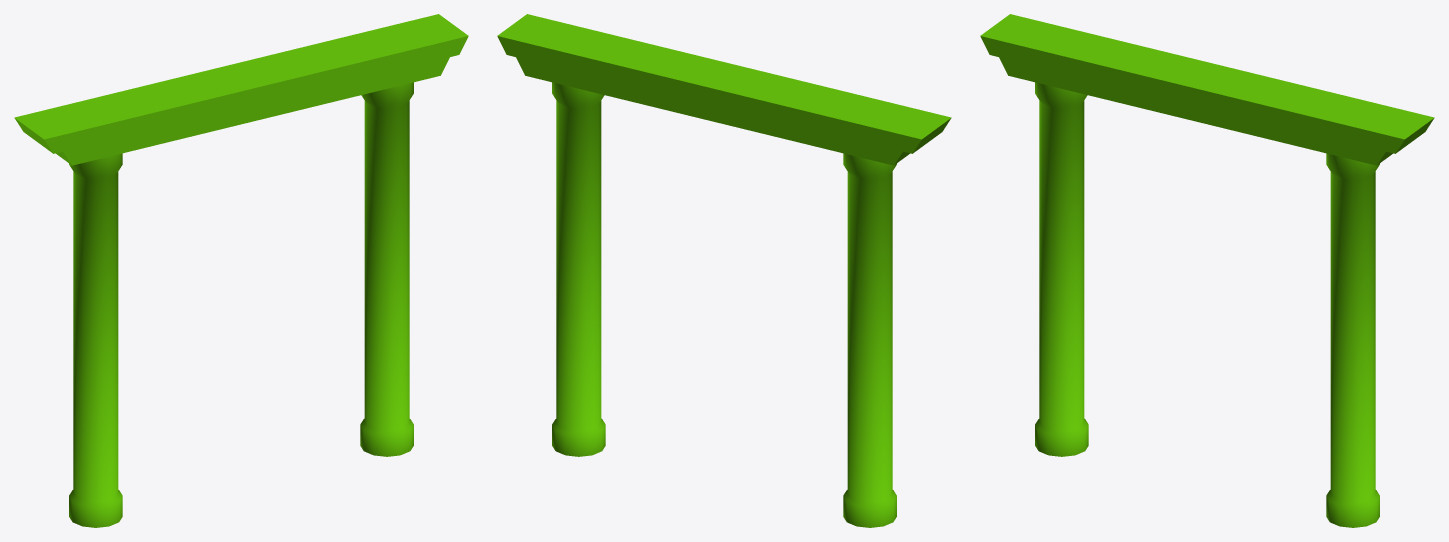
The model's file is gate.obj.
3 views of the same model, side by side, from view 1: azimuth 30°, elevation 25°; view 2: azimuth 150°, elevation 25°; view 3: azimuth 330°, elevation 25° (orthographic).
Visible parts, largest first — view 1: Circle; view 2: Circle; view 3: Circle.
Boxes of the visible parts, x1,y1,x2,y2 form: Circle: (14, 14, 468, 527); Circle: (497, 14, 951, 527); Circle: (980, 14, 1434, 527).
Bounding box in the file's own units: 8.75 × 7.96 × 1.07.
